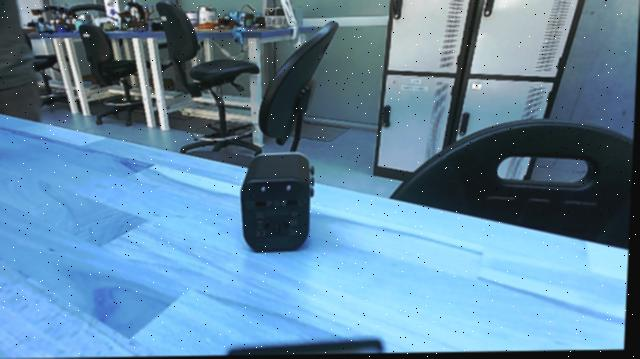adapter: (237, 148, 323, 259)
